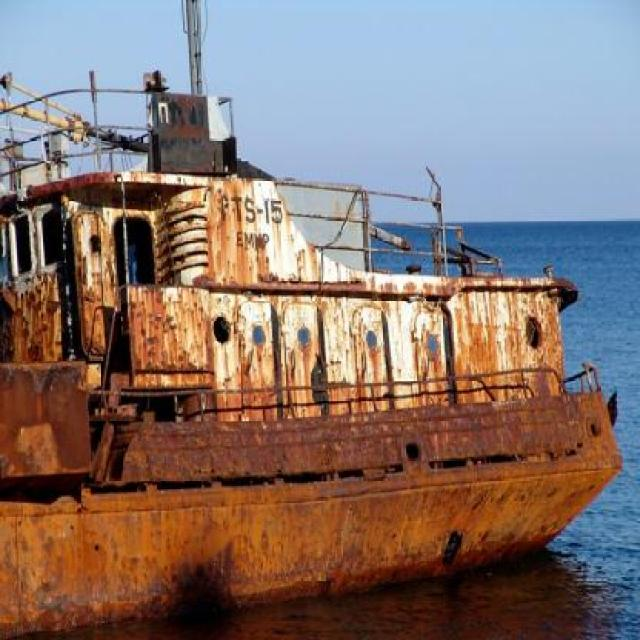corrosion: (3, 86, 623, 628)
